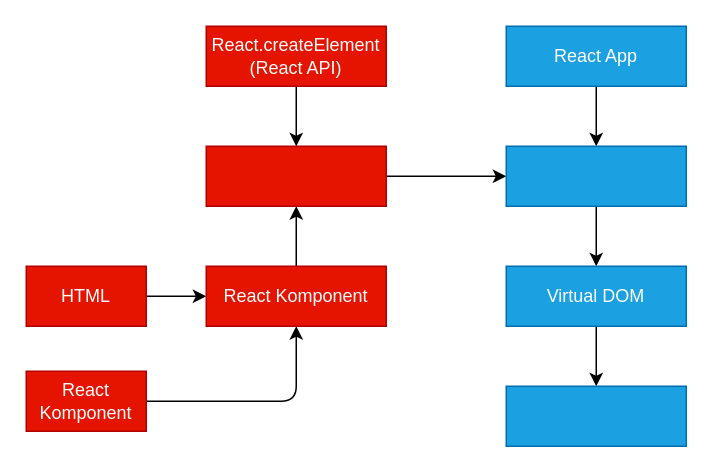
This 713x473 diagram has some shape labels left out. The centre of each missing label's shape, as x and y in pixels:
HTML DOM: (595,415)
ReactDOM.render (React API): (595,175)
UI: (295,175)
